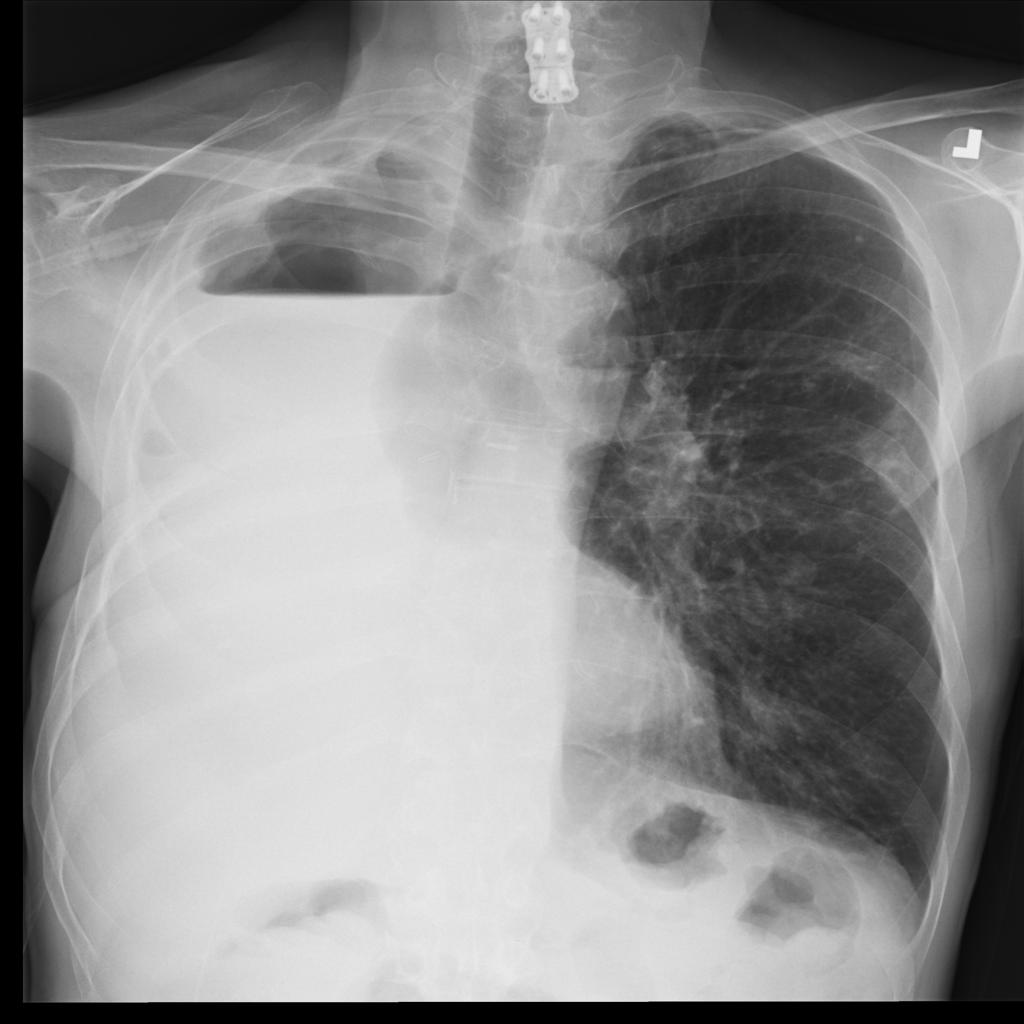nodule: (851, 435, 937, 508), (765, 535, 835, 604), (837, 219, 879, 252)
